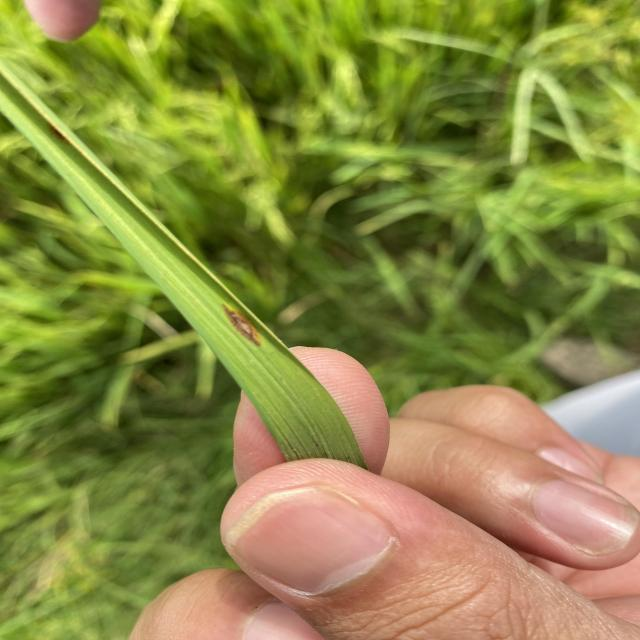Dom nau: (221, 302, 261, 349)
